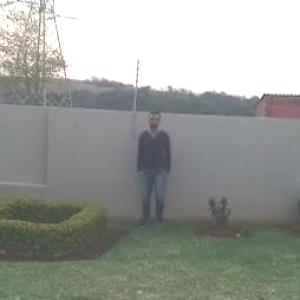follow: (136, 105, 174, 232)
